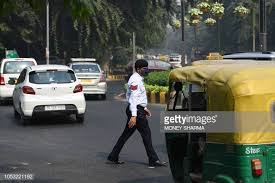mask: (133, 59, 151, 77)
